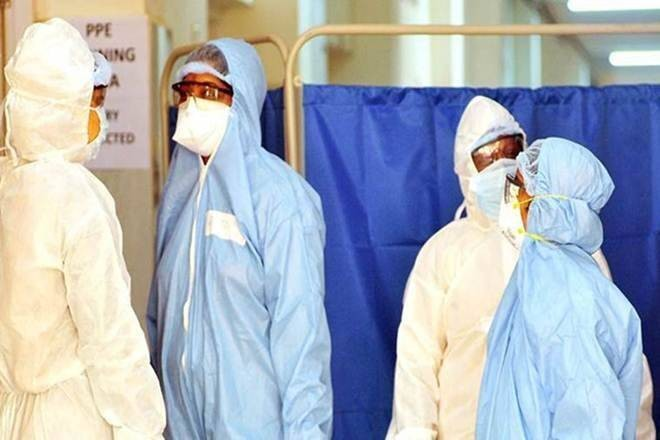Coverall: (384, 96, 627, 440), (151, 36, 334, 440), (1, 16, 170, 440), (477, 133, 644, 440)
Goggles: (165, 72, 237, 110), (471, 138, 526, 168), (502, 173, 532, 210), (85, 89, 113, 106)
with_mask: (175, 83, 230, 155), (472, 142, 520, 215), (495, 175, 529, 242), (88, 94, 111, 159)
